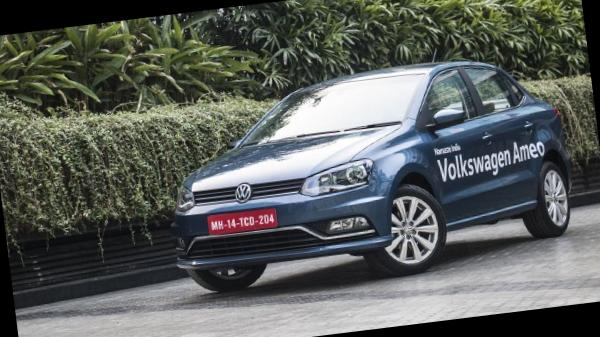plate: (199, 201, 288, 246)
